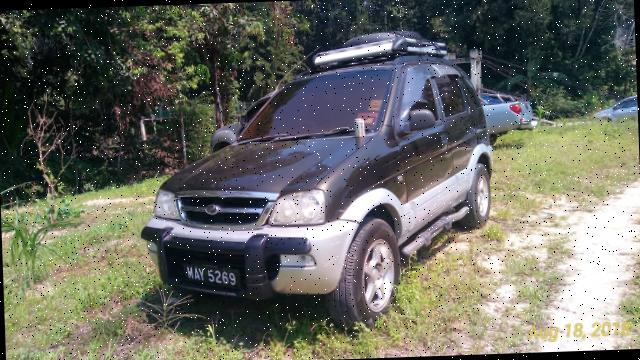License_Plate: (184, 264, 243, 293)
car: (139, 30, 504, 339)
